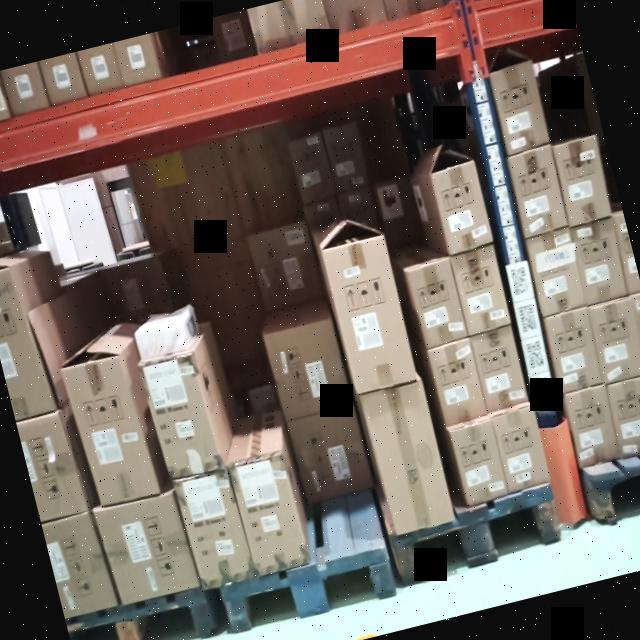box: (322, 234, 418, 393), (359, 380, 454, 534), (66, 357, 152, 508), (98, 491, 199, 604), (174, 469, 256, 590), (264, 319, 352, 422), (232, 458, 308, 576), (145, 357, 219, 478), (287, 405, 374, 504), (42, 512, 112, 616), (16, 410, 82, 520), (0, 265, 46, 421), (246, 218, 324, 308), (550, 136, 615, 226), (450, 244, 512, 336), (488, 61, 550, 150), (404, 260, 468, 346), (524, 230, 588, 314), (431, 165, 492, 252), (568, 218, 630, 303), (428, 338, 487, 426), (490, 405, 551, 490), (508, 148, 568, 234), (544, 308, 604, 392), (562, 386, 622, 467), (471, 328, 528, 408), (449, 422, 506, 502), (588, 299, 640, 383), (323, 122, 369, 190), (290, 133, 334, 200), (608, 377, 640, 455), (134, 323, 188, 358)
